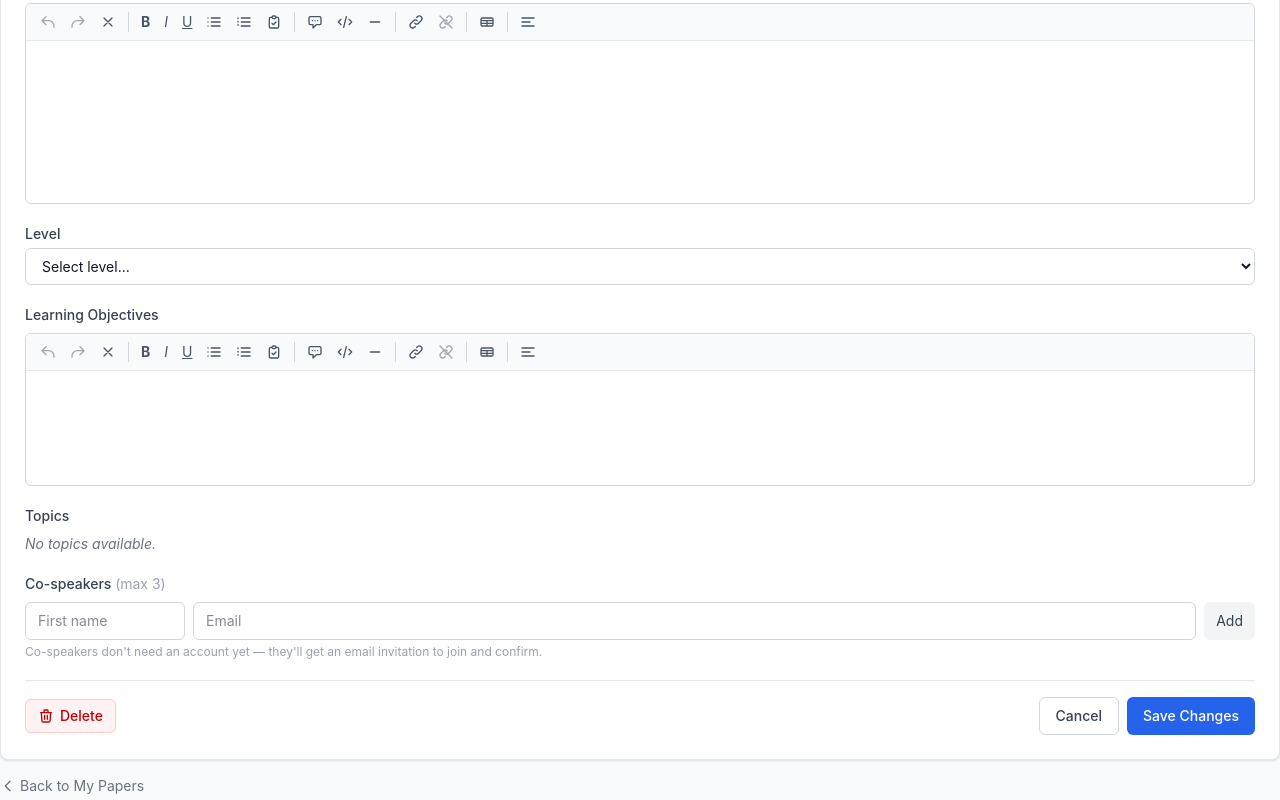
it: PaperDetailPage › draft paper — view mode (after cancelling edit) › shows Submit Paper in the header after cancelling edit mode
The width and height of the screenshot is (1280, 800).
(page scrolled)
Expected: the button "Save Changes" is shown, [1127,697,1255,735]
Click the button "Cancel" at (1079, 716), box [1038,697,1119,735]
(page scrolled)
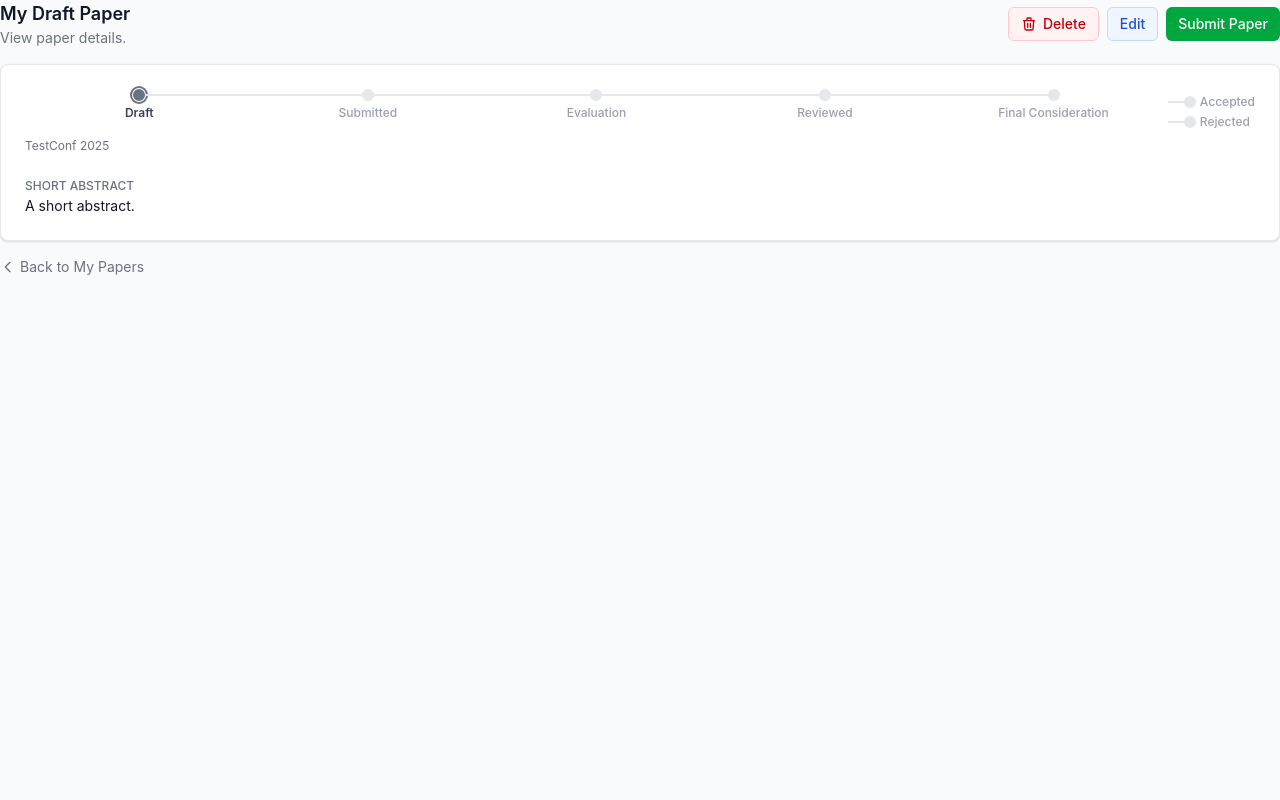
Expected: the button "Submit Paper" is shown, [1166,7,1279,41]
